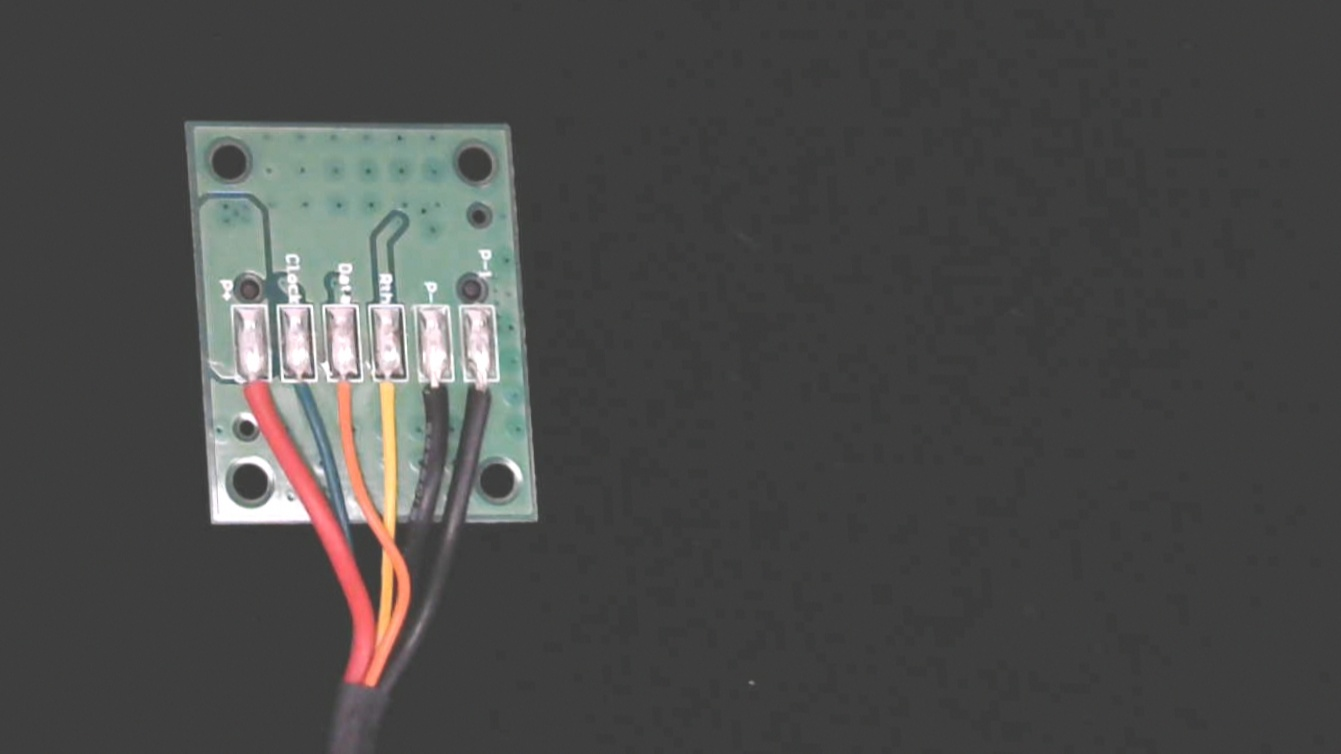Black: (416, 357, 459, 446)
Black1: (465, 356, 507, 439)
Green: (280, 355, 322, 440)
Orange: (326, 356, 366, 444)
Red: (233, 356, 275, 440)
Yellow: (371, 357, 414, 447)
